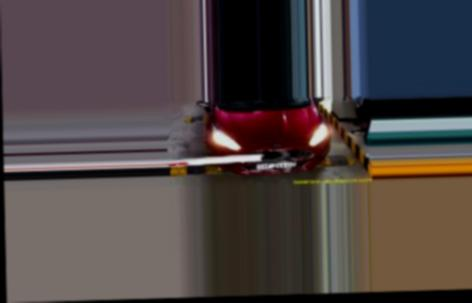License_Plate: (253, 161, 299, 173)
